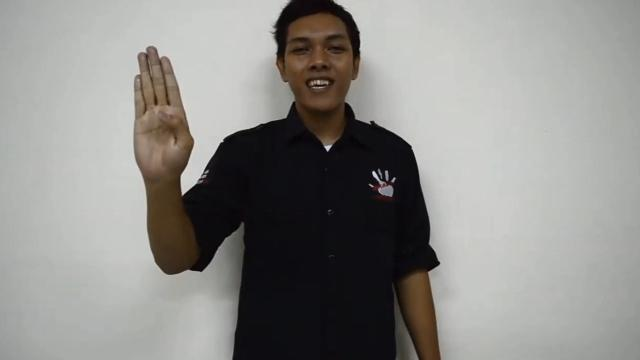B: (132, 46, 194, 178)
